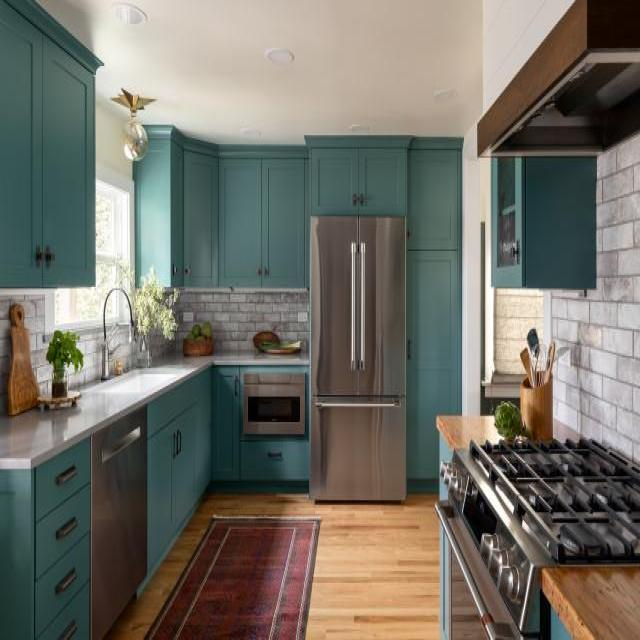dishwasher: (87, 398, 150, 640)
